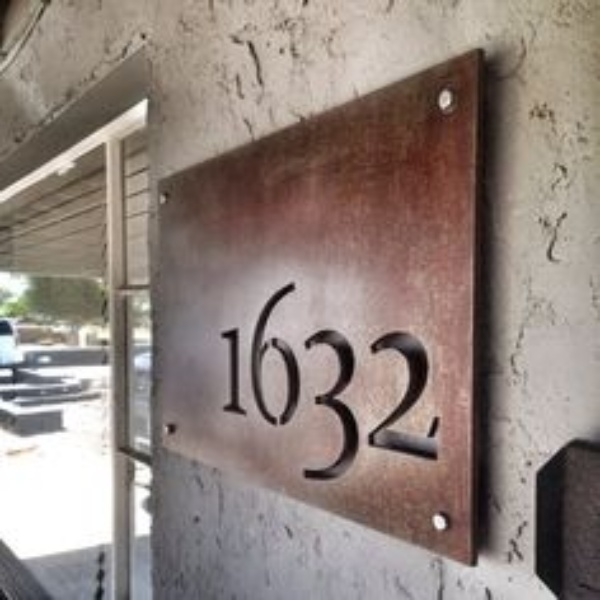text: (225, 278, 240, 496), (241, 278, 256, 496), (257, 278, 272, 496), (273, 278, 288, 496), (289, 278, 304, 496), (305, 278, 320, 496), (321, 278, 336, 496), (337, 278, 352, 496), (353, 278, 368, 496), (369, 278, 384, 496), (385, 278, 400, 496), (401, 278, 416, 496), (417, 278, 432, 496), (433, 278, 443, 496), (219, 278, 224, 496)
